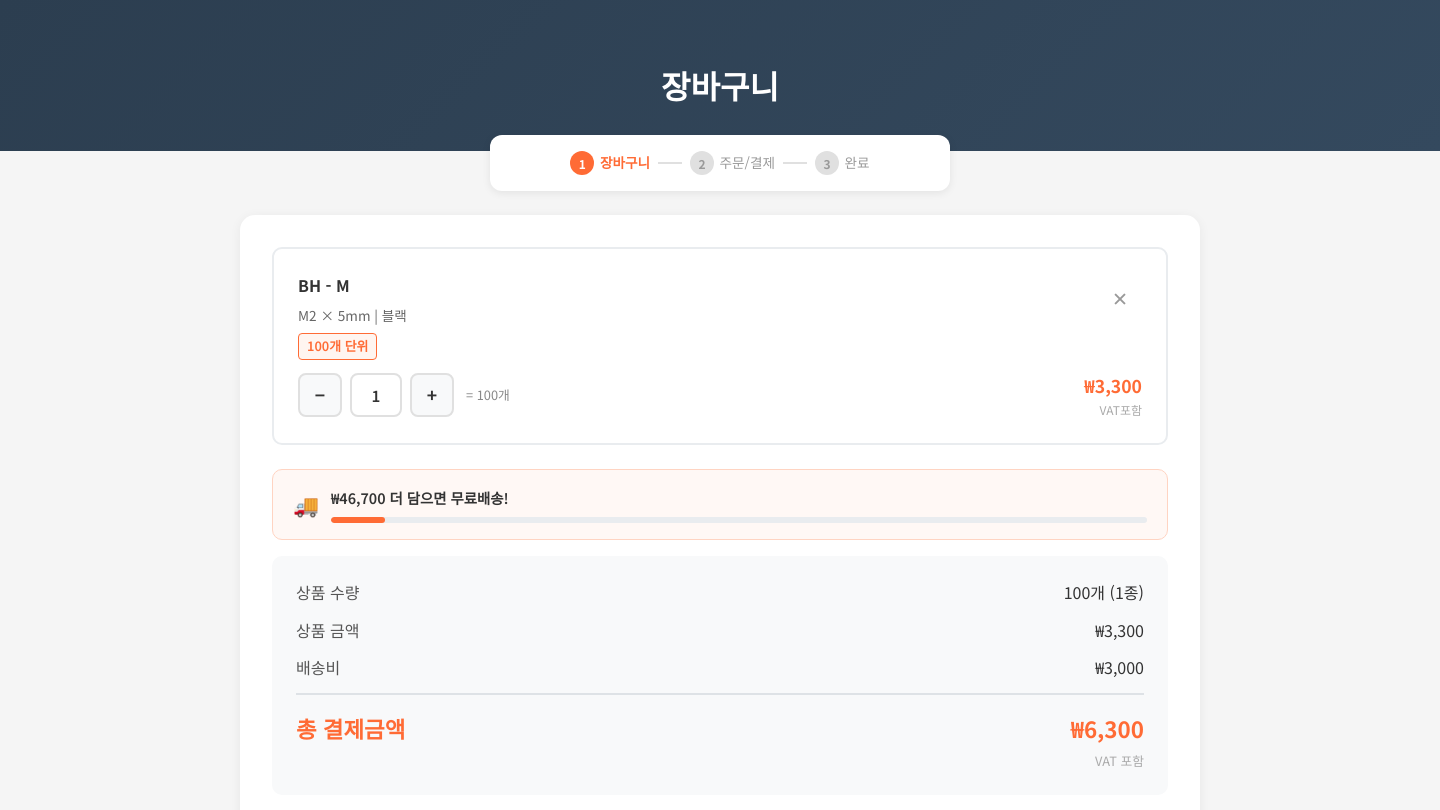
CartPage UI › closes confirm dialog when cancel is clicked
What coordinates should you click on to do the following:
click the button named "BH - M 삭제"
I would click on:
 (1120, 299)
Its box is [1098,273,1142,324].
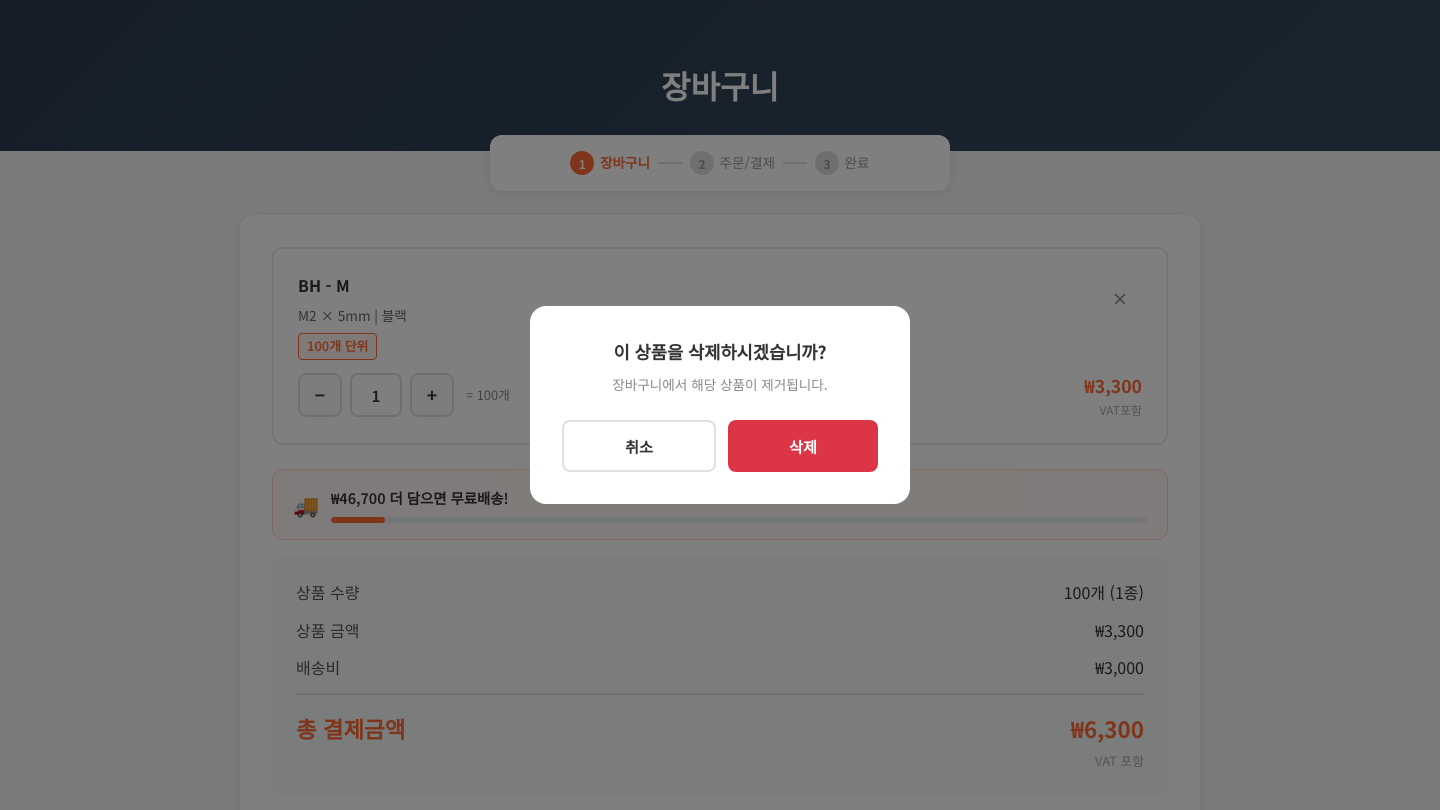
Now the dialog is shown, box [530,306,910,504]
// Click 취소
What coordinates should you click on to do the following:
click the button "취소"
I would click on:
 (639, 446)
Its box is [562,420,716,472].
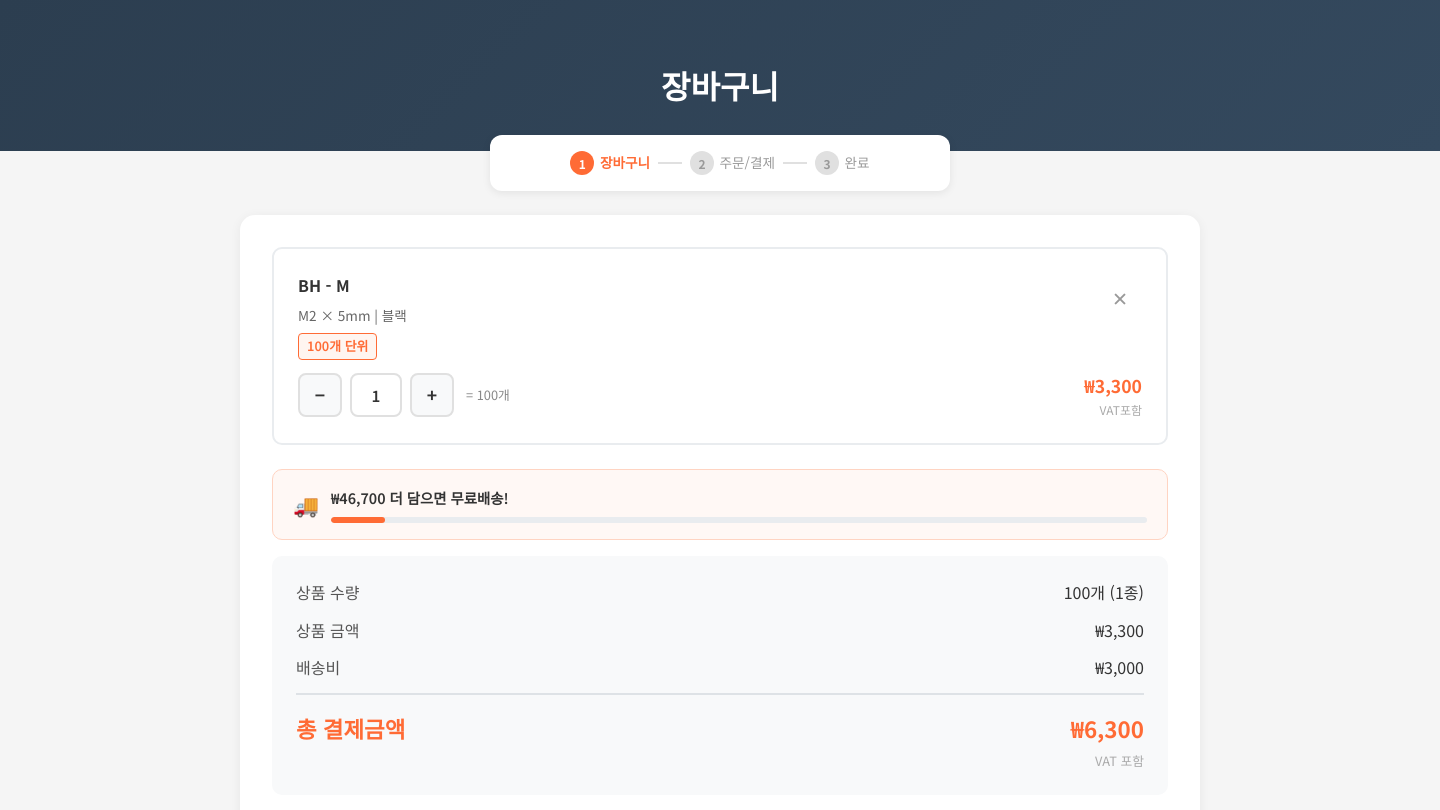
Now the dialog is gone
